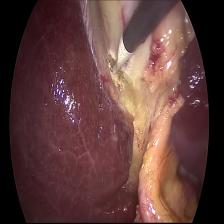Hook: (102, 31, 134, 79)
